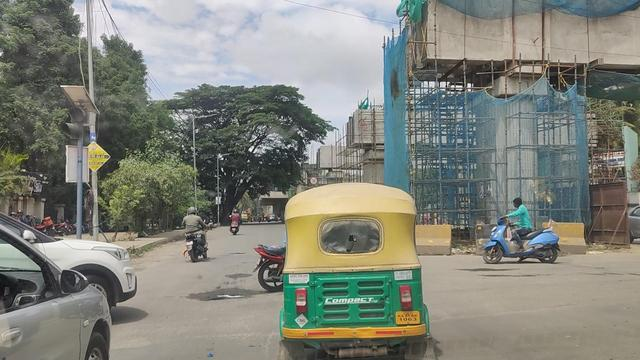LMV: (274, 186, 425, 360), (495, 193, 557, 266)
RoadDamages: (201, 280, 253, 309)
